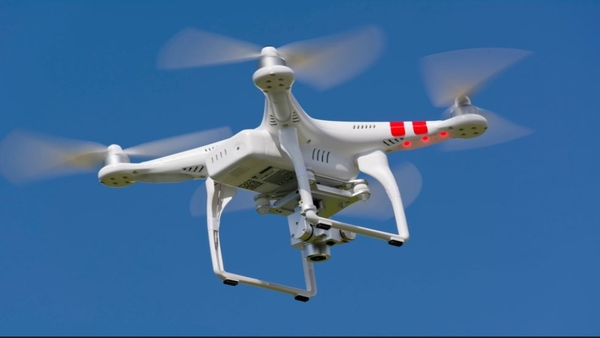drone: (1, 27, 537, 304)
